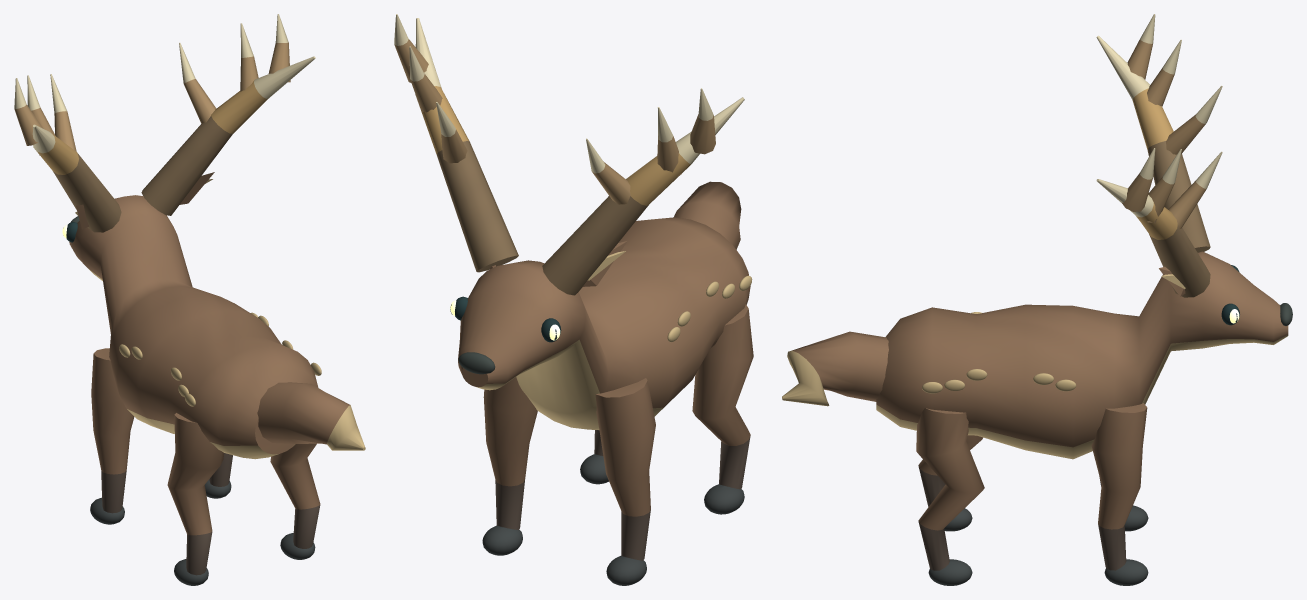
Rendered from forest_champion.glb.
The picture shows the model from 3 angles, left to right: view 1: azimuth 30°, elevation 25°; view 2: azimuth 150°, elevation 25°; view 3: azimuth 270°, elevation 25°; orthographic projection. The views are drawn at different scales.
Visible parts, largest first — view 1: Body, Walk02, Walk00, Walk03, Walk01; view 2: Body, Walk00, Walk02, Walk01, Walk03; view 3: Body, Walk03, Walk01, Walk02.
Part boxes in pixels (x1,y1,x2,y2): Body: (14,14,365,459); Walk02: (167,413,224,585); Walk00: (90,348,134,524); Walk03: (270,443,320,559); Walk01: (205,453,232,498); Body: (394,14,752,429); Walk00: (595,378,655,585); Walk02: (692,304,753,514); Walk01: (482,377,537,555); Walk03: (580,430,608,484); Body: (782,14,1292,459); Walk03: (916,408,984,585); Walk01: (1091,403,1148,585); Walk02: (918,435,982,531).
Size of the model in its own units: 1.4 by 2.15 by 2.09.
Materials: 2 (1 with a texture image).
